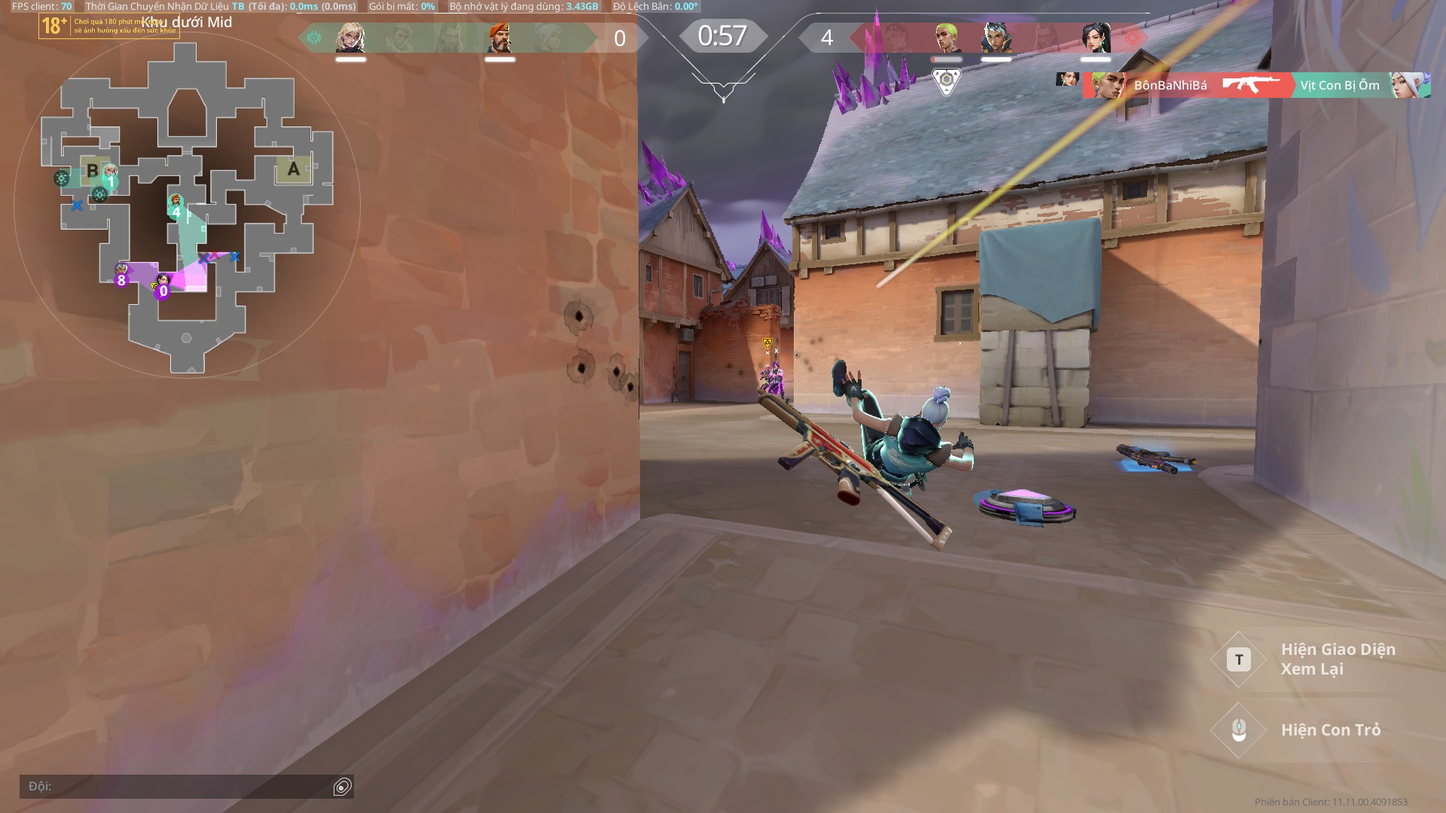body: (771, 369, 783, 384), (761, 370, 770, 382)
head: (773, 360, 780, 367), (763, 364, 770, 370)
